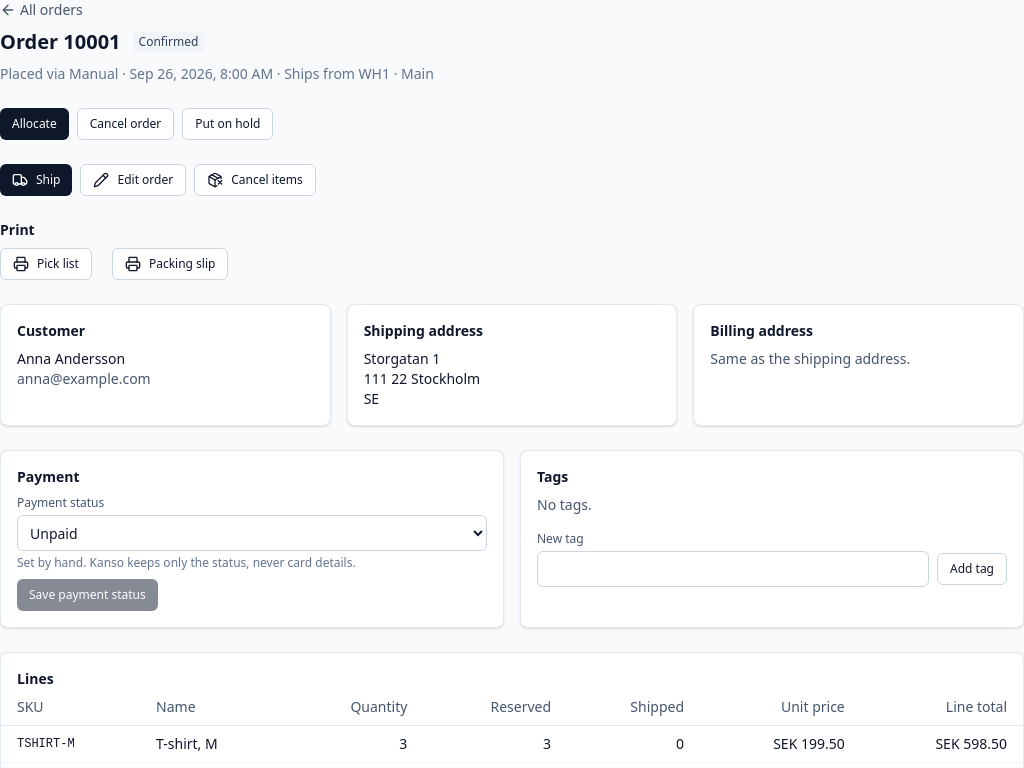
cancelling items › explains a hold that has to be released first
Click the button "Cancel items" at point(255, 180), box left=194, top=164, right=316, bottom=196
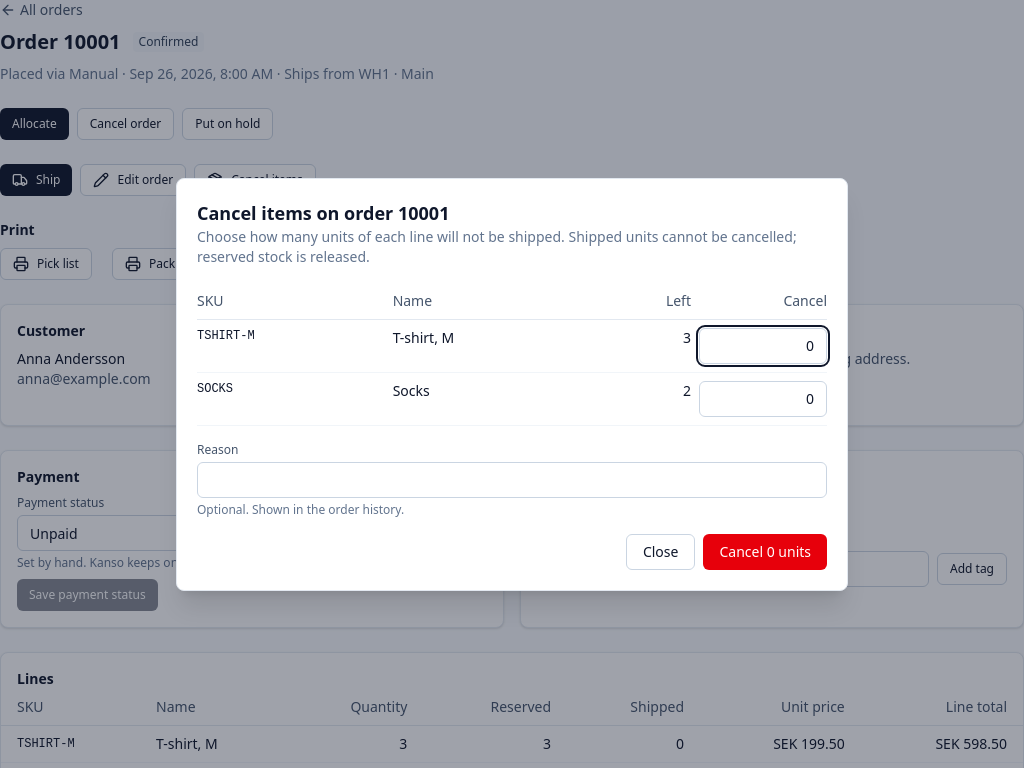
Replace the text in the 2nd field named "Units of SOCKS to cancel" with "1" at point(763, 398), box left=699, top=380, right=827, bottom=416
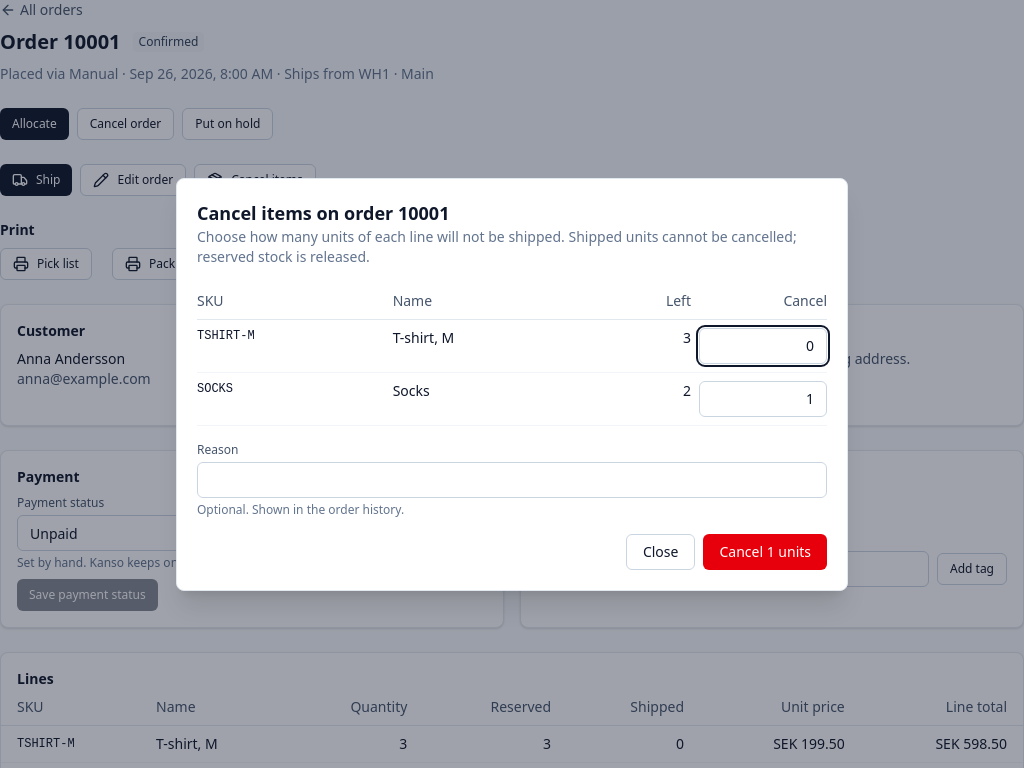
Click the button "Cancel 1 units" at point(765, 552), box left=704, top=534, right=827, bottom=570
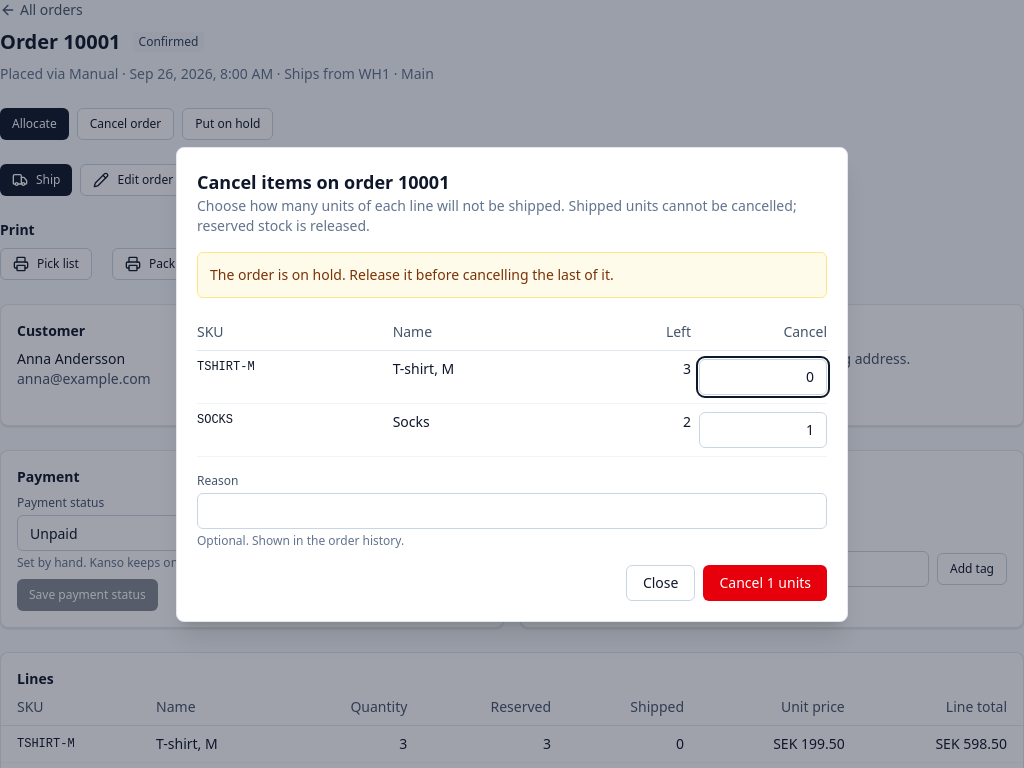
Expected: the message shows "Release it before", left=210, top=264, right=614, bottom=284
